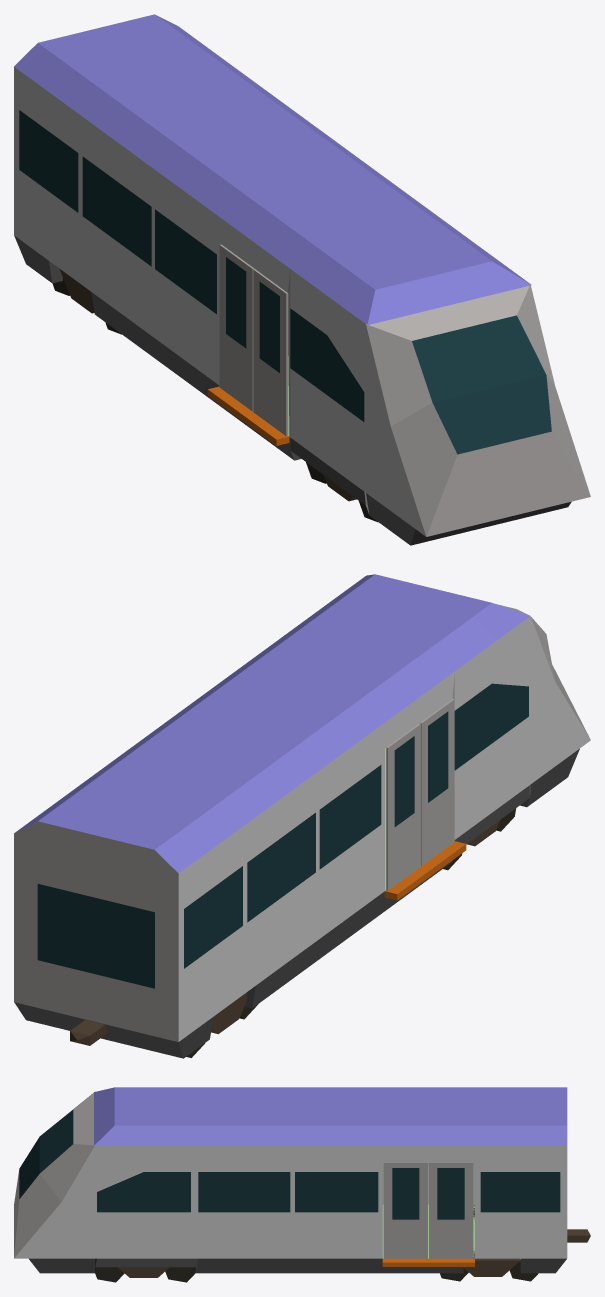
The model's file is train front bit.fbx.
3 views of the same model, one above another, from view 1: azimuth 30°, elevation 25°; view 2: azimuth 150°, elevation 25°; view 3: azimuth 270°, elevation 25° (orthographic). The views are drawn at different scales.
Visible parts, largest first — view 1: main bit of train.003, main bit of train.001, door c, door c.001; view 2: main bit of train.003, main bit of train.001, door c.001, door c; view 3: main bit of train.003, main bit of train.001, door a, door b.
Boxes of the visible parts, x1,y1,x2,y2 form: main bit of train.003: (14,67,590,545); main bit of train.001: (14,14,531,325); door c: (253,269,288,436); door c.001: (219,244,254,411); main bit of train.003: (14,576,590,1058); main bit of train.001: (15,574,529,873); door c.001: (386,723,420,890); door c: (419,699,454,865); main bit of train.003: (14,1093,590,1282); main bit of train.001: (94,1087,567,1145); door a: (383,1163,427,1258); door b: (429,1163,473,1258).
Size of the model in its own units: 717 by 814 by 2812.
